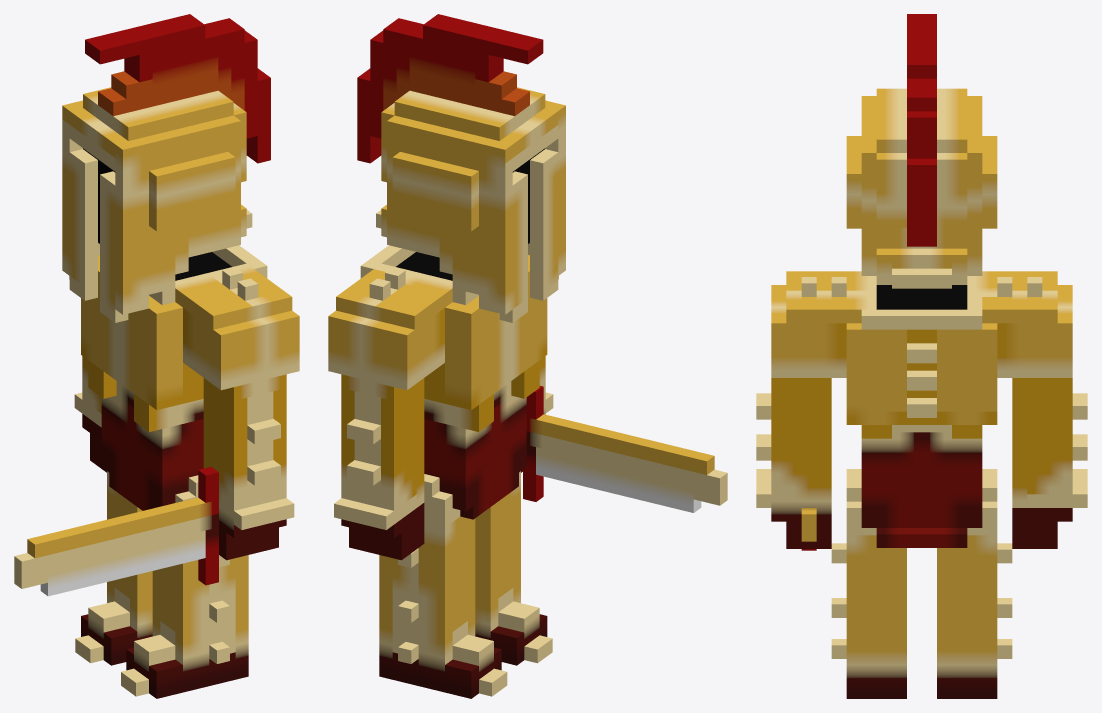
Rendered from HeroRome.dae.
The picture shows the model from 3 angles, left to right: view 1: azimuth 30°, elevation 25°; view 2: azimuth 150°, elevation 25°; view 3: azimuth 270°, elevation 25°; orthographic projection.
Visible parts, largest first — view 1: Head, Torso, L_Leg, Sword, L_Arm, R_Leg, R_Arm; view 2: Head, Torso, R_Leg, R_Arm, Sword, L_Leg; view 3: Torso, Head, R_Leg, L_Leg, R_Arm, L_Arm, Sword.
Boxes of the visible parts, x1,y1,x2,y2 form: Head: (62, 14, 270, 322); Torso: (69, 245, 299, 510); L_Leg: (121, 475, 248, 698); Sword: (14, 467, 218, 596); L_Arm: (203, 374, 294, 560); R_Leg: (75, 471, 152, 665); R_Arm: (74, 356, 106, 472); Head: (357, 14, 565, 322); Torso: (328, 245, 558, 519); R_Leg: (379, 474, 507, 698); R_Arm: (334, 374, 424, 560); Sword: (523, 386, 727, 512); L_Leg: (475, 471, 552, 665); Torso: (771, 271, 1072, 547); Head: (846, 14, 997, 288); R_Leg: (937, 469, 1012, 698); L_Leg: (831, 469, 906, 698); R_Arm: (1012, 378, 1087, 548); L_Arm: (756, 378, 831, 548); Sword: (801, 508, 816, 550).
Bounding box in the file's own units: 23 × 46 × 22.
